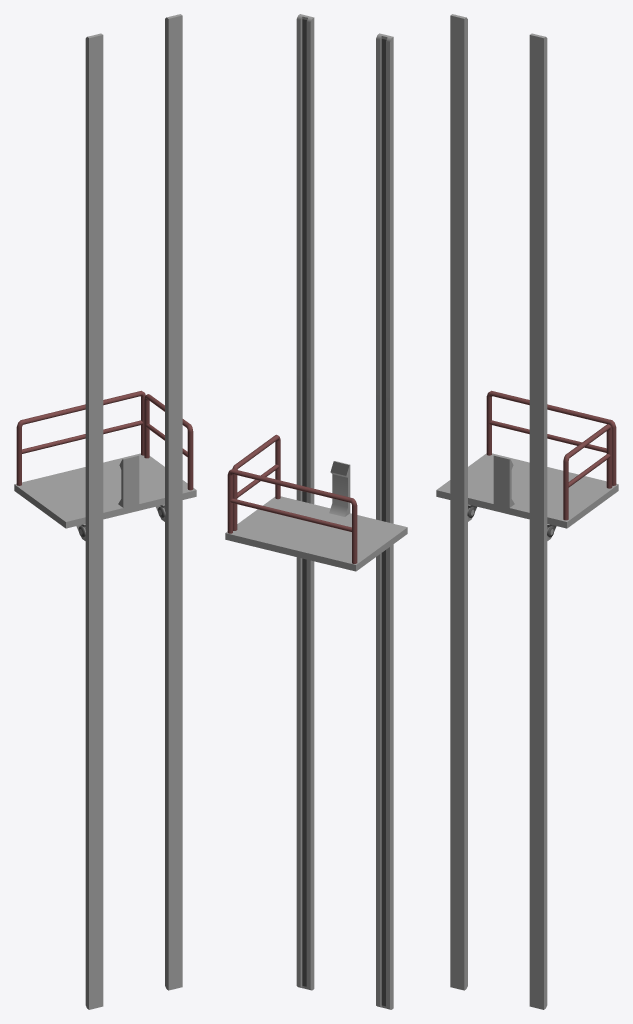
File: ServiceElevator.fbx
The picture shows the model from 3 angles, left to right: view 1: azimuth 30°, elevation 25°; view 2: azimuth 150°, elevation 25°; view 3: azimuth 330°, elevation 25°; orthographic projection.
Visible parts, largest first — view 1: Rails, Platform, Railing, Railing_ride, Console; view 2: Rails, Platform, Railing, Railing_ride, Console; view 3: Rails, Platform, Railing, Railing_ride, Console.
Part boxes in pixels (x1,y1,x2,y2): Rails: [85, 14, 182, 1009]; Platform: [14, 453, 196, 540]; Railing: [16, 390, 145, 485]; Railing_ride: [144, 394, 193, 490]; Console: [118, 455, 139, 507]; Rails: [296, 14, 393, 1009]; Platform: [225, 496, 407, 571]; Railing: [227, 469, 357, 563]; Railing_ride: [232, 434, 280, 530]; Console: [329, 461, 350, 516]; Rails: [450, 14, 547, 1009]; Platform: [436, 453, 618, 540]; Railing: [486, 390, 616, 485]; Railing_ride: [563, 424, 612, 520]; Console: [493, 455, 514, 507].
Size of the model in its own units: 8.25 by 58.49 by 6.13.
